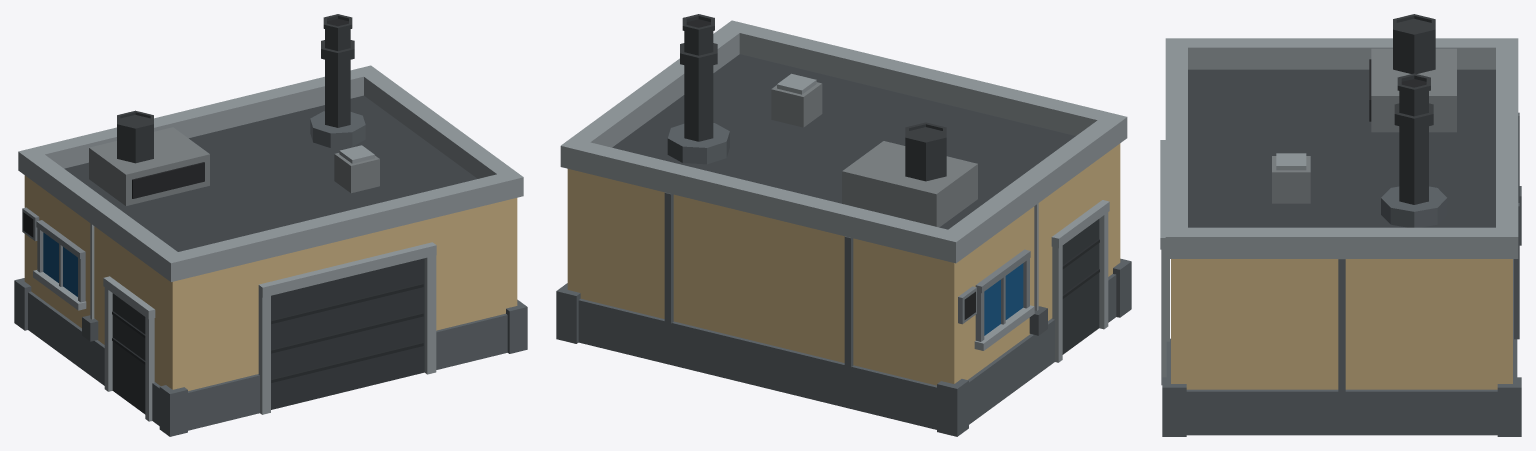
The model's file is workshop.fbx.
The picture shows the model from 3 angles, left to right: view 1: azimuth 30°, elevation 25°; view 2: azimuth 150°, elevation 25°; view 3: azimuth 270°, elevation 25°; orthographic projection. The views are drawn at different scales.
Parts seen in each view (by area): view 1: Workshop_Industrial_Building; view 2: Workshop_Industrial_Building; view 3: Workshop_Industrial_Building.
Part boxes in pixels (bbox=[...]): Workshop_Industrial_Building: bbox=[14, 14, 527, 436]; Workshop_Industrial_Building: bbox=[556, 14, 1131, 436]; Workshop_Industrial_Building: bbox=[1160, 14, 1521, 436].
Bounding box in the file's own units: 898 × 640 × 676.
